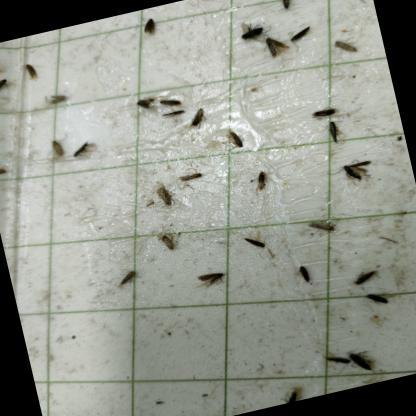prays_oleae: (191, 262, 235, 304), (232, 13, 269, 55), (67, 129, 101, 174), (286, 16, 320, 57), (335, 154, 373, 190), (262, 22, 292, 67), (347, 343, 379, 384), (182, 101, 213, 139), (331, 28, 359, 66), (322, 346, 352, 379), (306, 212, 336, 244), (151, 181, 179, 215), (348, 260, 382, 288), (42, 87, 76, 113), (114, 263, 142, 294), (156, 221, 181, 254), (310, 92, 340, 119), (249, 167, 274, 197), (278, 380, 309, 404), (294, 258, 316, 290), (241, 231, 270, 255), (177, 167, 207, 190), (48, 133, 69, 164), (224, 126, 248, 152), (158, 88, 184, 111), (131, 88, 155, 111), (363, 290, 390, 310), (326, 118, 344, 148), (161, 106, 189, 125), (0, 75, 13, 111), (0, 161, 11, 198), (22, 61, 40, 82), (274, 0, 295, 11), (347, 0, 374, 8)
